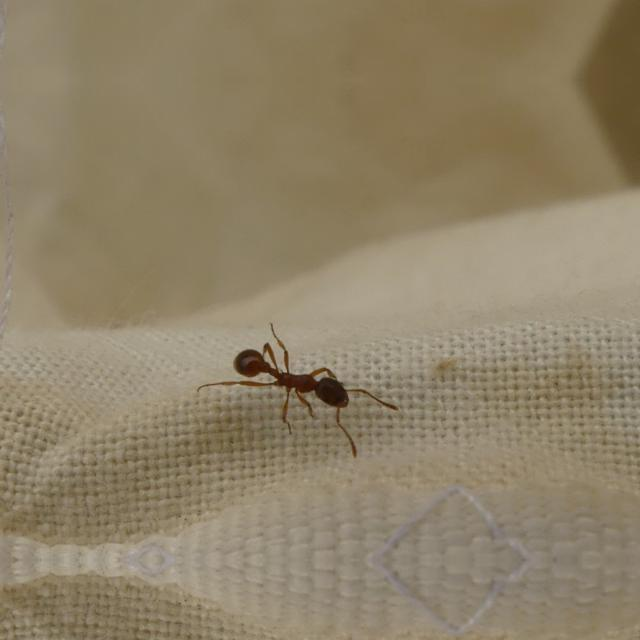Myrmica: (222, 336, 398, 450)
